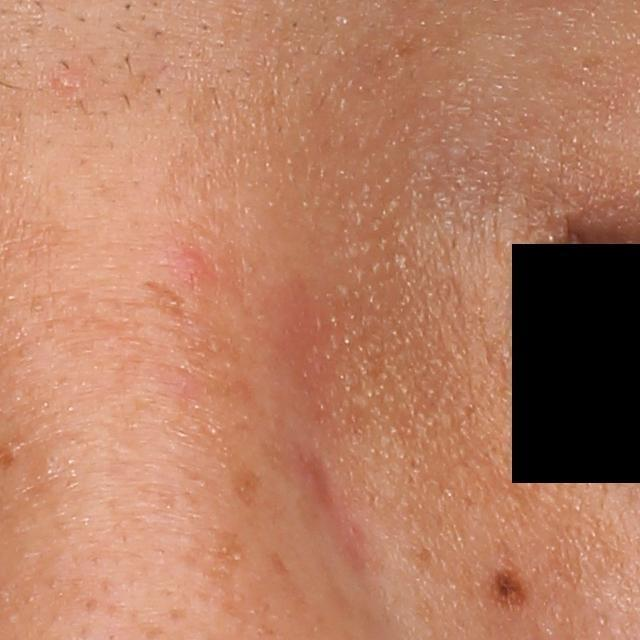melasma: (235, 452, 262, 510)
nevus: (487, 559, 530, 621)
papule: (166, 243, 219, 293)
